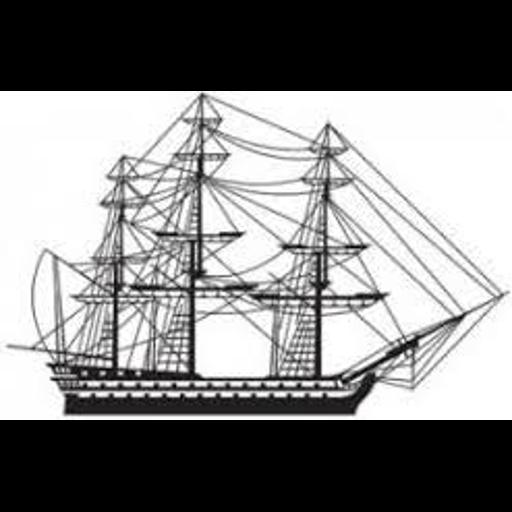The Vanguard Group: (0, 91, 512, 420)
